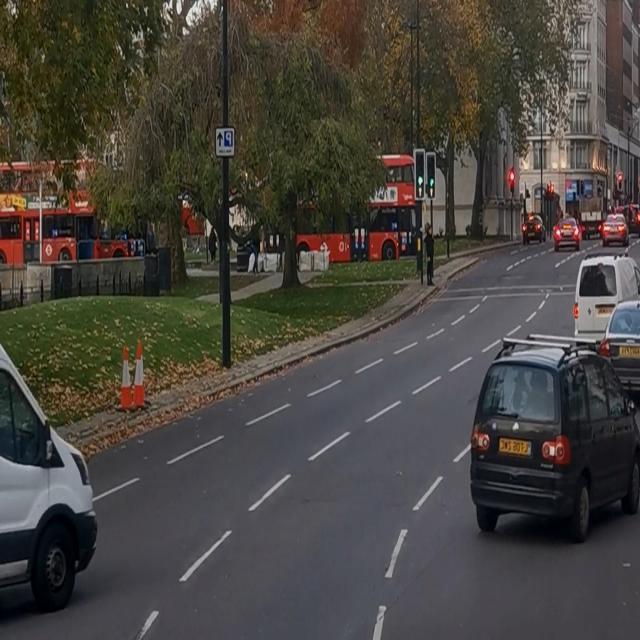Vehicle: (469, 336, 637, 540), (574, 248, 638, 322), (602, 296, 640, 404), (554, 214, 580, 254), (520, 210, 544, 247)
